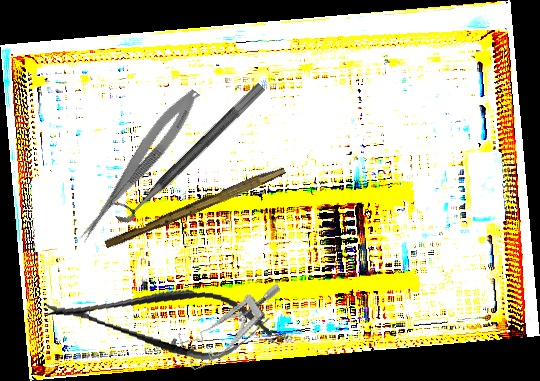Fixation Ring: (105, 69, 267, 228)
Micro Scissor: (40, 271, 277, 368), (72, 82, 206, 251)
Scalpel Handle: (103, 161, 287, 253)
Speculum: (172, 281, 297, 373)
